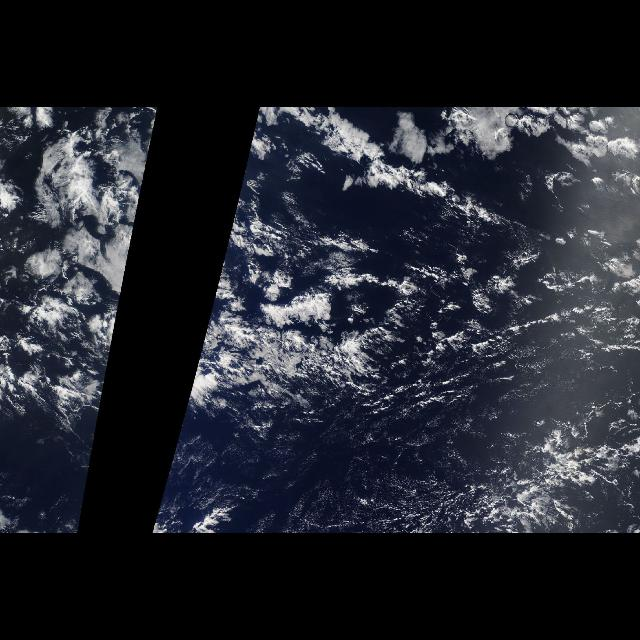Sugar: (271, 346, 625, 530)
